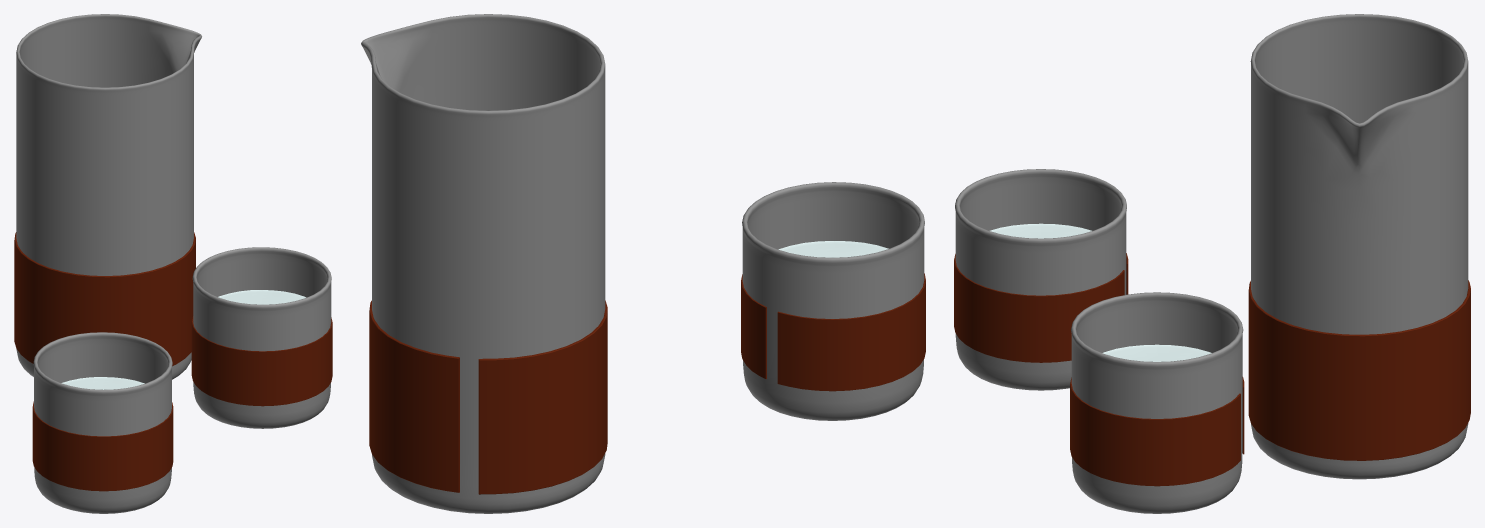
File: Serax_Copper_Glass_Set.fbx
The picture shows the model from 3 angles, left to right: view 1: azimuth 30°, elevation 25°; view 2: azimuth 150°, elevation 25°; view 3: azimuth 270°, elevation 25°; orthographic projection. The views are drawn at different scales.
Visible parts, largest first — view 1: Serax_Copper_Glass_Set; view 2: Serax_Copper_Glass_Set; view 3: Serax_Copper_Glass_Set.
Part boxes in pixels (x1,y1,x2,y2): Serax_Copper_Glass_Set: (14,14,332,513); Serax_Copper_Glass_Set: (361,14,925,513); Serax_Copper_Glass_Set: (954,14,1470,513).
Bounding box in the file's own units: 18.92 × 21.1 × 17.06.
